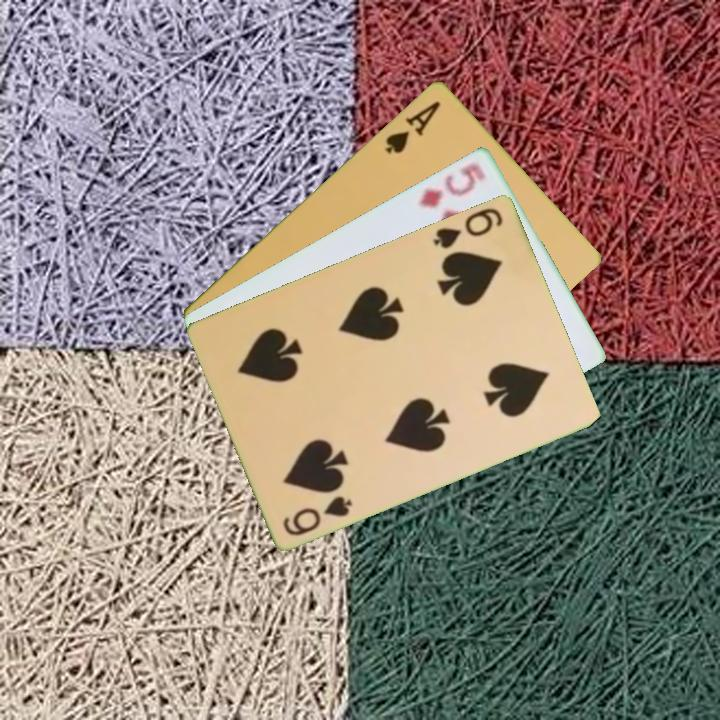5d: (414, 161, 489, 210)
6s: (279, 491, 356, 539), (430, 203, 506, 251)
As: (381, 96, 444, 156)
